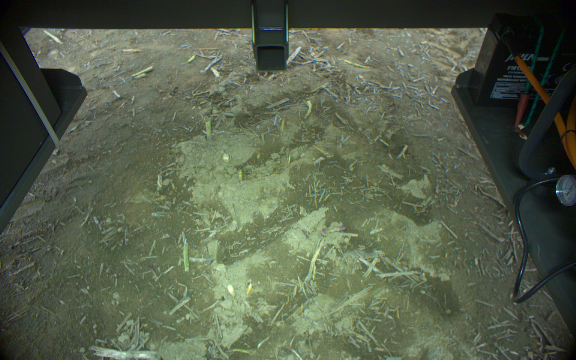aspa: (179, 231, 191, 274), (233, 162, 244, 184), (203, 117, 213, 140)
